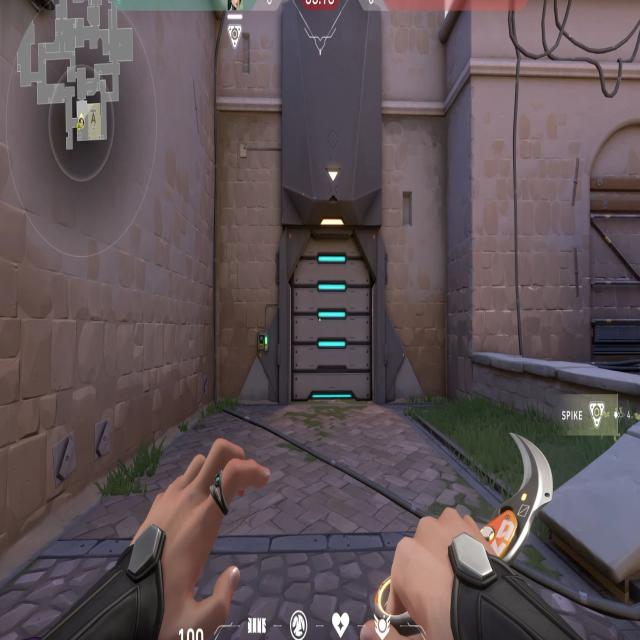A_Door: (285, 220, 381, 406)
